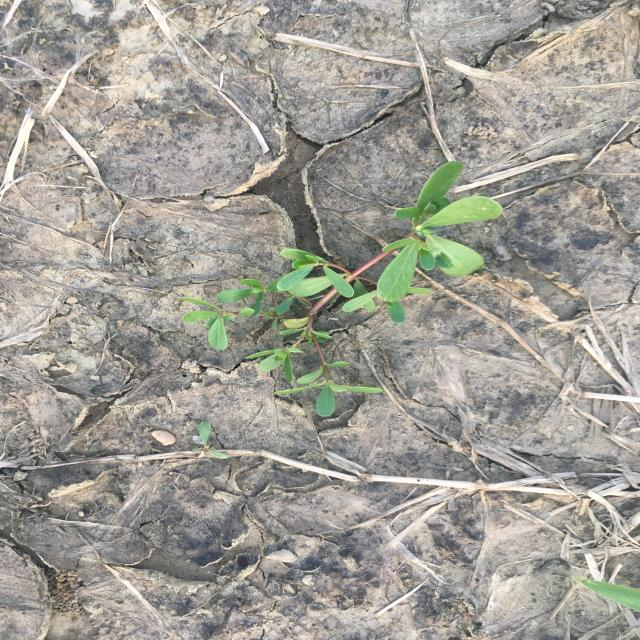Purslane: (175, 160, 505, 418)
